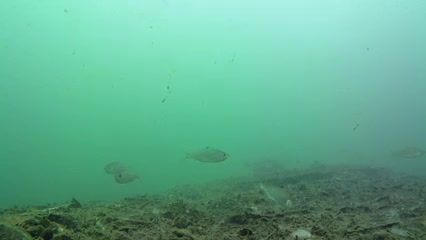smallfish: (186, 147, 232, 169), (113, 168, 160, 189)
